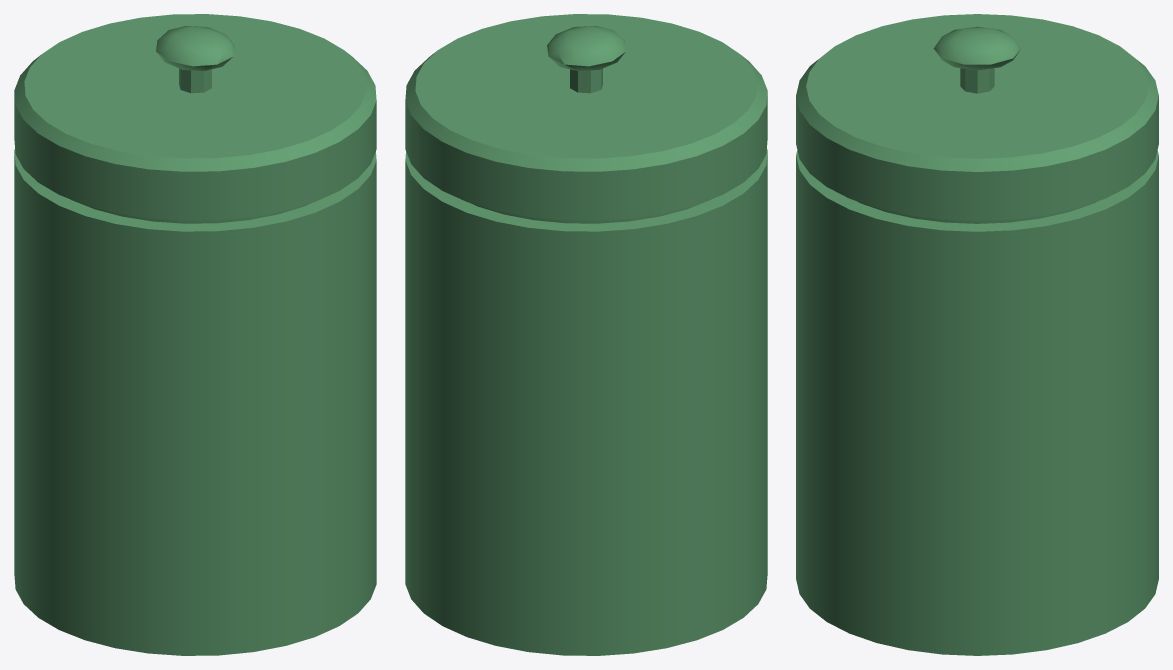
Rendered from potin.fbx.
3 renders of one model, left to right at view 1: azimuth 30°, elevation 25°; view 2: azimuth 150°, elevation 25°; view 3: azimuth 270°, elevation 25°, orthographic.
Visible parts, largest first — view 1: Potin; view 2: Potin; view 3: Potin.
Boxes of the visible parts, left/top/right/bottom form: Potin: left=14, top=14, right=376, bottom=655; Potin: left=405, top=14, right=767, bottom=655; Potin: left=796, top=14, right=1158, bottom=655.
Bounding box in the file's own units: 200 × 332 × 200.
